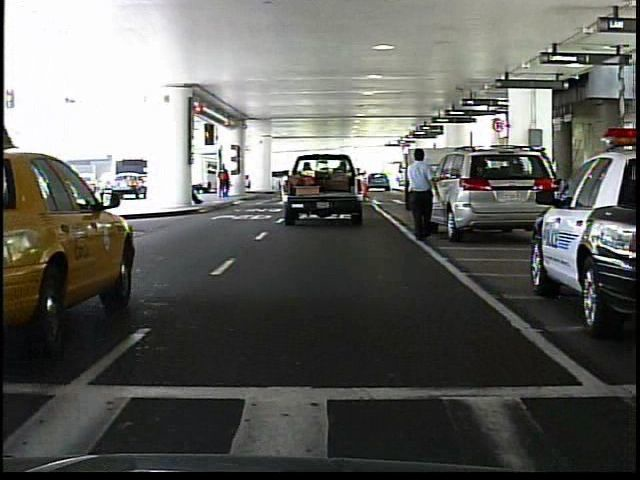person: (400, 145, 444, 240), (216, 162, 236, 201)
